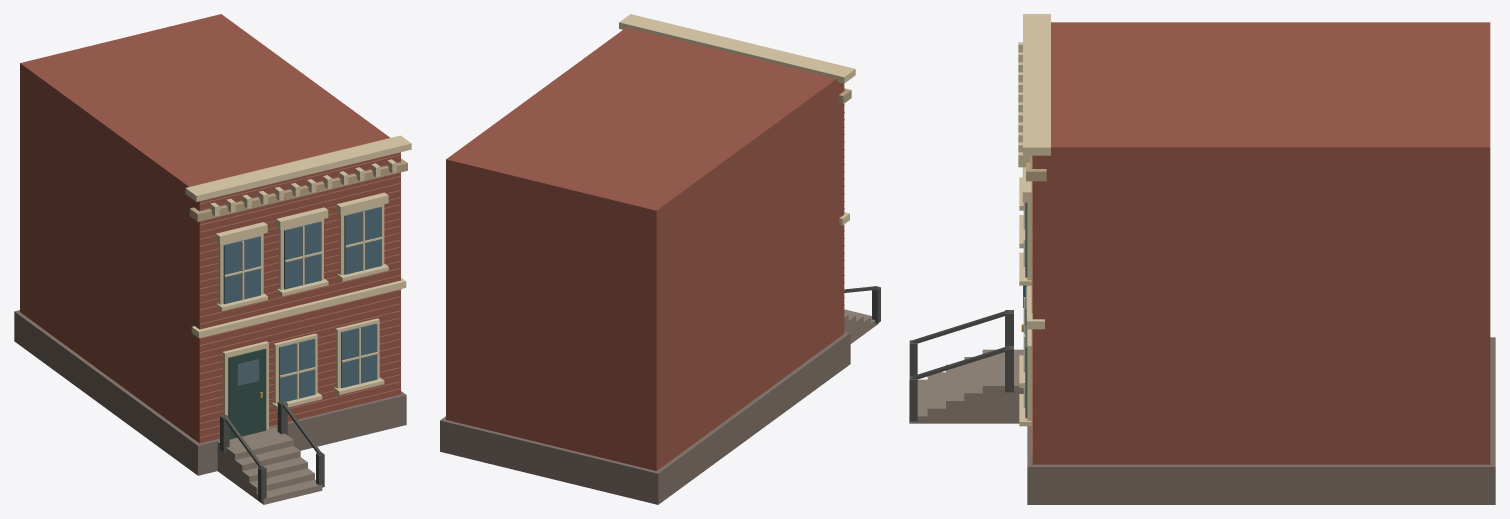
The model's file is brick_rowhouse.glb.
3 views of the same model, side by side, from view 1: azimuth 30°, elevation 25°; view 2: azimuth 150°, elevation 25°; view 3: azimuth 270°, elevation 25° (orthographic). The views are drawn at different scales.
Visible parts, largest first — view 1: Brick shell, Foundation, Crown cornice, Door, Blue glazing.003, Blue glazing.002, Blue glazing.004, Stone belt course, Blue glazing.001, Blue glazing, Lower cornice, Door casing (+15 smaller); view 2: Brick shell, Foundation, Crown cornice; view 3: Brick shell, Foundation, Crown cornice, Front step, Front step.001, Stoop landing, Front step.002, Front step.003.
Boxes of the visible parts, bbox=[...] form: Brick shell: bbox=[20, 14, 400, 443]; Foundation: bbox=[14, 310, 406, 475]; Crown cornice: bbox=[185, 135, 411, 201]; Door: bbox=[228, 348, 266, 439]; Blue glazing.003: bbox=[284, 221, 321, 289]; Blue glazing.002: bbox=[223, 236, 260, 304]; Blue glazing.004: bbox=[344, 206, 381, 274]; Stone belt course: bbox=[191, 278, 406, 338]; Blue glazing.001: bbox=[341, 323, 377, 387]; Blue glazing: bbox=[279, 338, 315, 401]; Lower cornice: bbox=[189, 158, 407, 221]; Door casing: bbox=[222, 341, 268, 429]; Brick shell: bbox=[446, 27, 844, 470]; Foundation: bbox=[440, 331, 850, 504]; Crown cornice: bbox=[619, 14, 855, 83]; Brick shell: bbox=[1032, 22, 1490, 464]; Foundation: bbox=[1027, 337, 1495, 504]; Crown cornice: bbox=[1023, 14, 1050, 155]; Front step: bbox=[982, 349, 1000, 423]; Front step.001: bbox=[964, 357, 982, 423]; Stoop landing: bbox=[1000, 349, 1023, 423]; Front step.002: bbox=[946, 364, 964, 423]; Front step.003: bbox=[927, 372, 945, 423].
Size of the model in its own units: 5.88 by 7.36 by 10.89.
